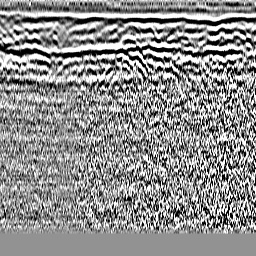cavity: (116, 33, 141, 58)
